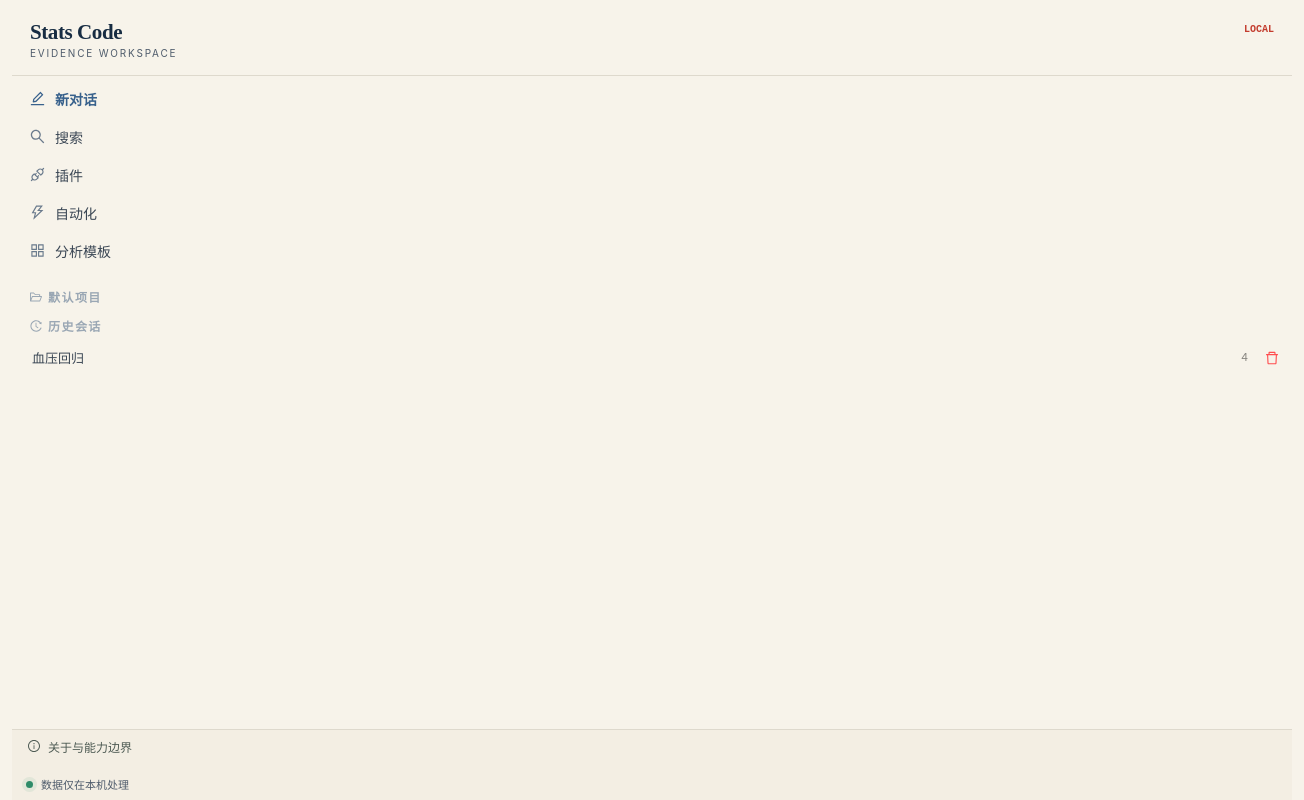
Test: SimpleSidebar (Requirements 2.1, 2.2, 9.6) › uses a readable fallback for a non-Error rejection
The image size is (1304, 800).
Click the button named "删除会话: 血压回归": point(1272, 358) [1260,346,1284,370]
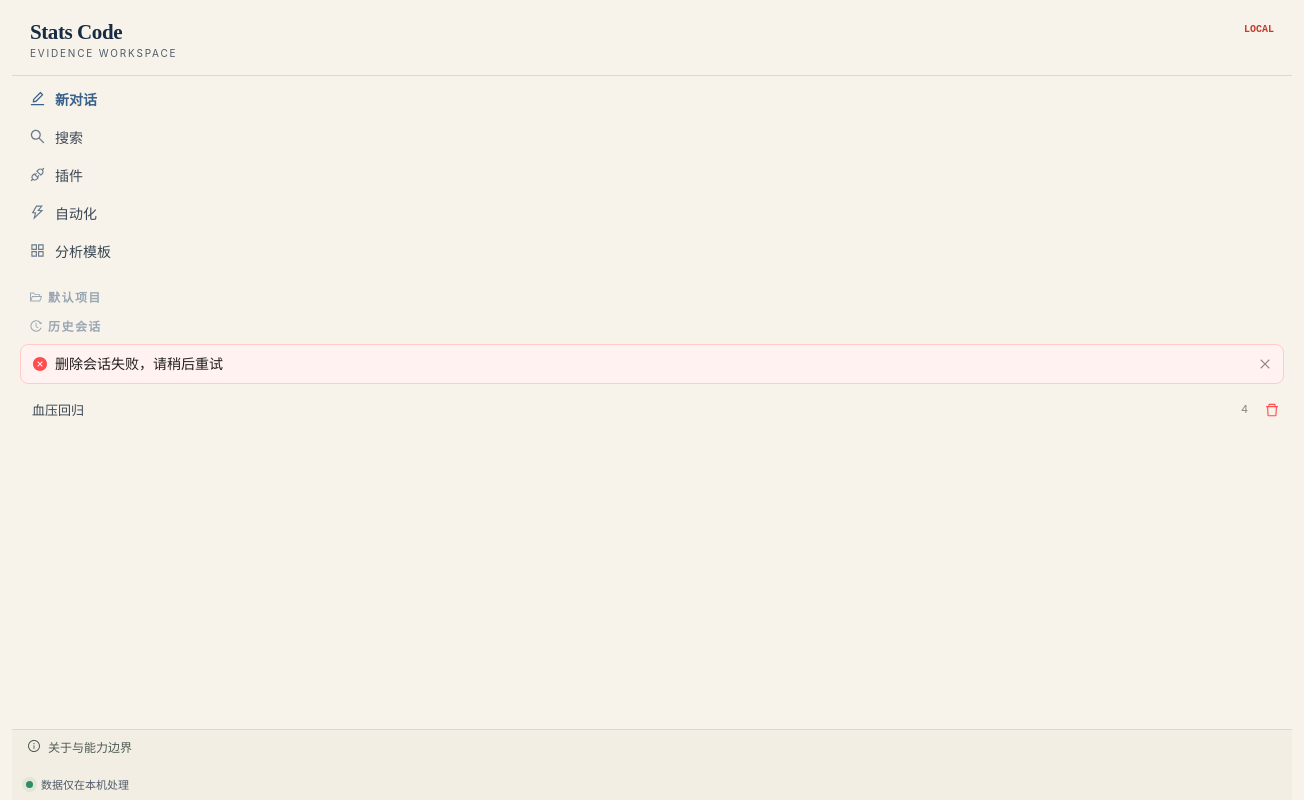
Check: the message "删除会话失败，请稍后重试" is shown, box [20,344,1284,384]
